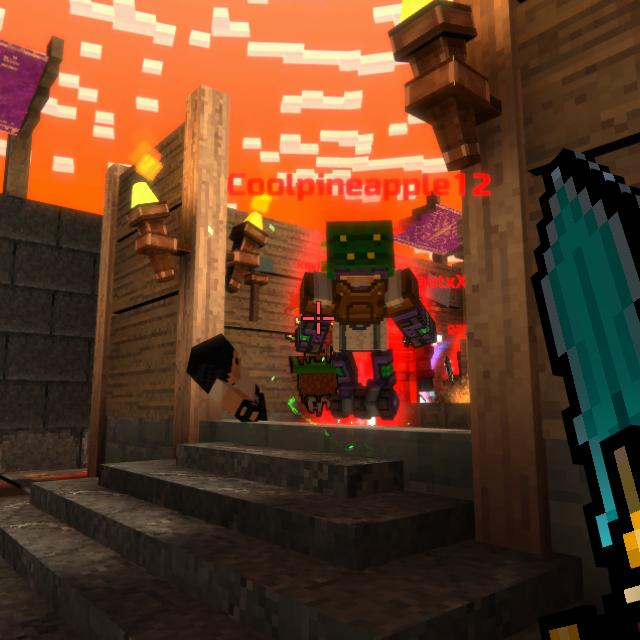Enemy: (291, 218, 430, 422), (455, 339, 466, 375)
